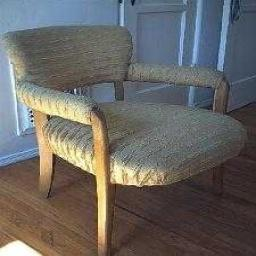Chair: (1, 28, 248, 256)
